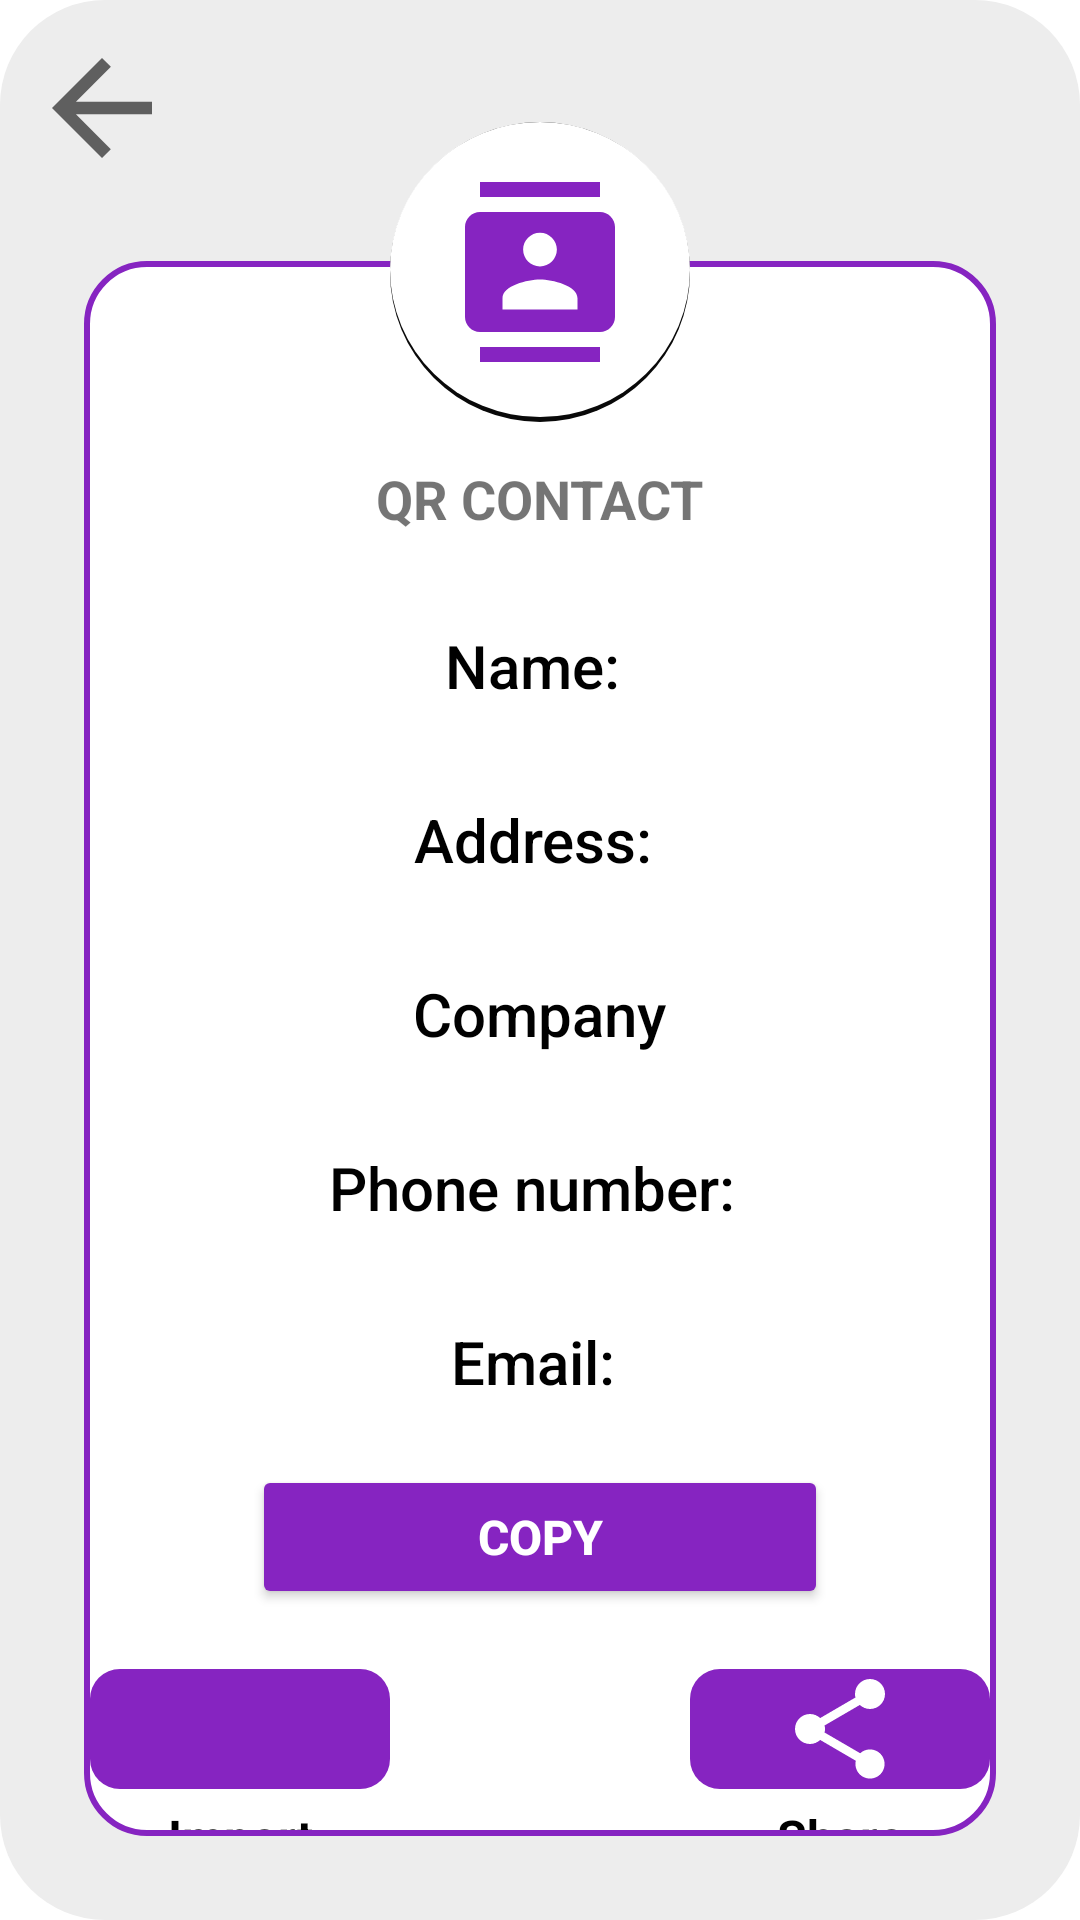

Icons on this 1080px×1920px Android screen, each with its box as (x1, y1, x2, y2):
arrow back: (52, 58, 152, 158)
